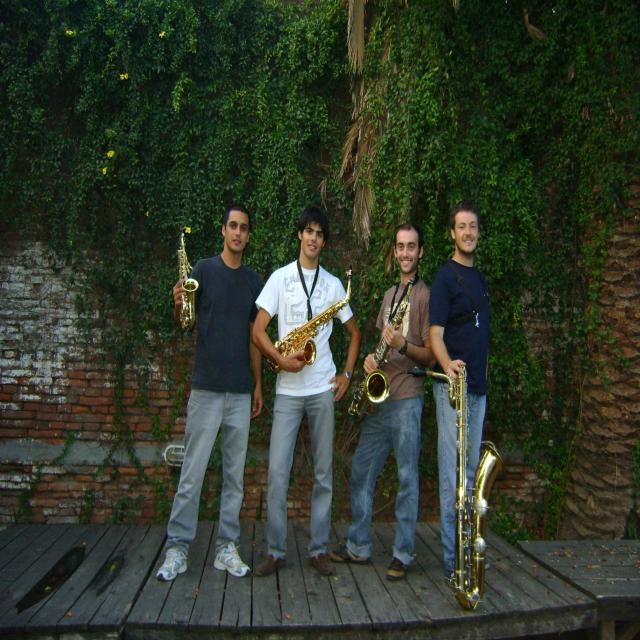saxophone: (404, 360, 506, 613), (346, 274, 417, 420), (266, 266, 356, 374), (172, 232, 202, 333)
